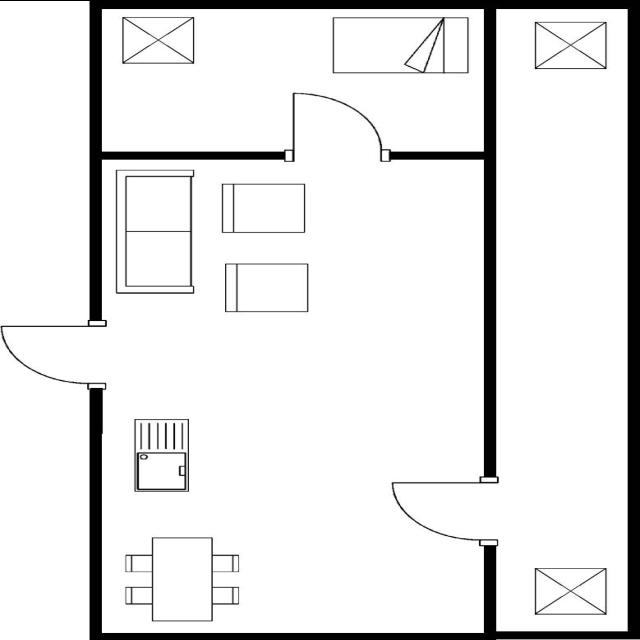bed: (326, 14, 474, 80)
coffee_table: (528, 19, 612, 72), (118, 14, 200, 68), (528, 564, 610, 618)
dining_table: (117, 533, 245, 624)
large_sofa: (108, 165, 202, 298)
sink: (127, 412, 197, 494)
small_sofa: (220, 257, 313, 315), (217, 181, 310, 235)
